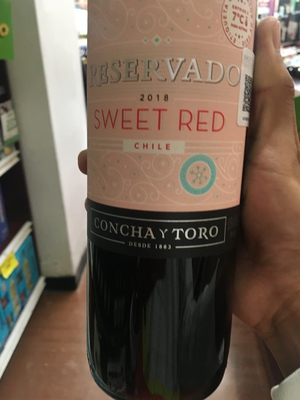reservado sweet red: (80, 1, 255, 394)
